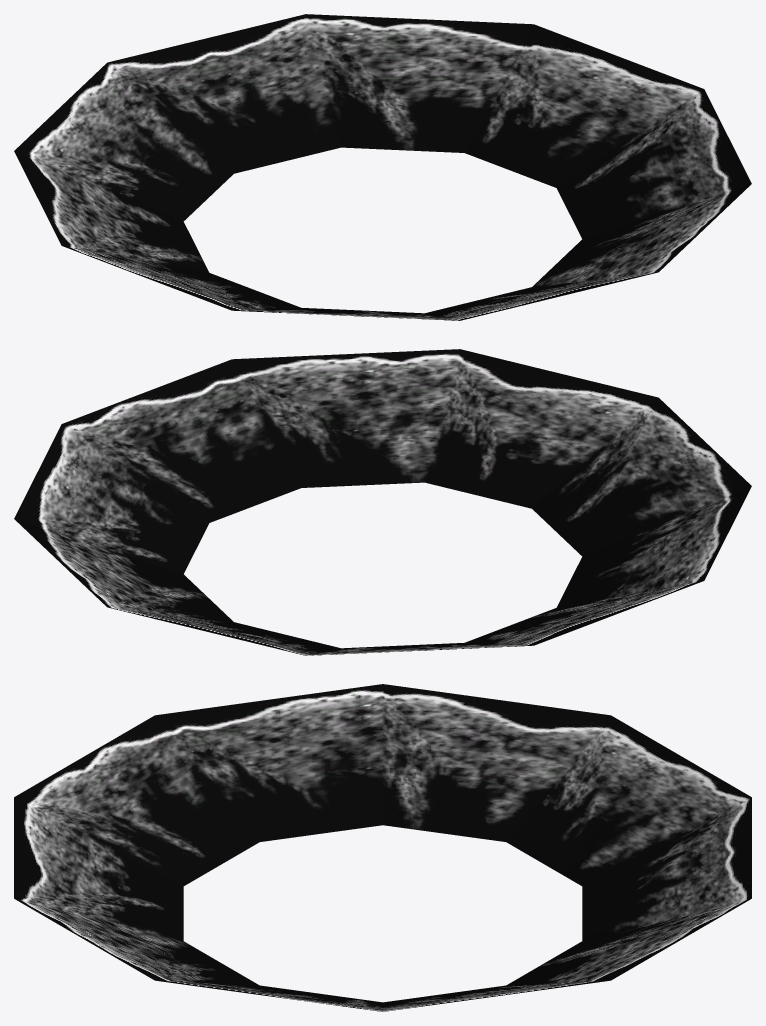
Rendered from Aura.FBX.
The picture shows the model from 3 angles, top to bottom: view 1: azimuth 30°, elevation 25°; view 2: azimuth 150°, elevation 25°; view 3: azimuth 270°, elevation 25°; orthographic projection. The views are drawn at different scales.
Parts seen in each view (by area): view 1: towerFloat_SM; view 2: towerFloat_SM; view 3: towerFloat_SM.
Part boxes in pixels (x1,y1,x2,y2): towerFloat_SM: [14, 14, 751, 320]; towerFloat_SM: [14, 349, 751, 655]; towerFloat_SM: [14, 684, 751, 1011].
Size of the model in its own units: 7.78 by 0.7279 by 7.4.
